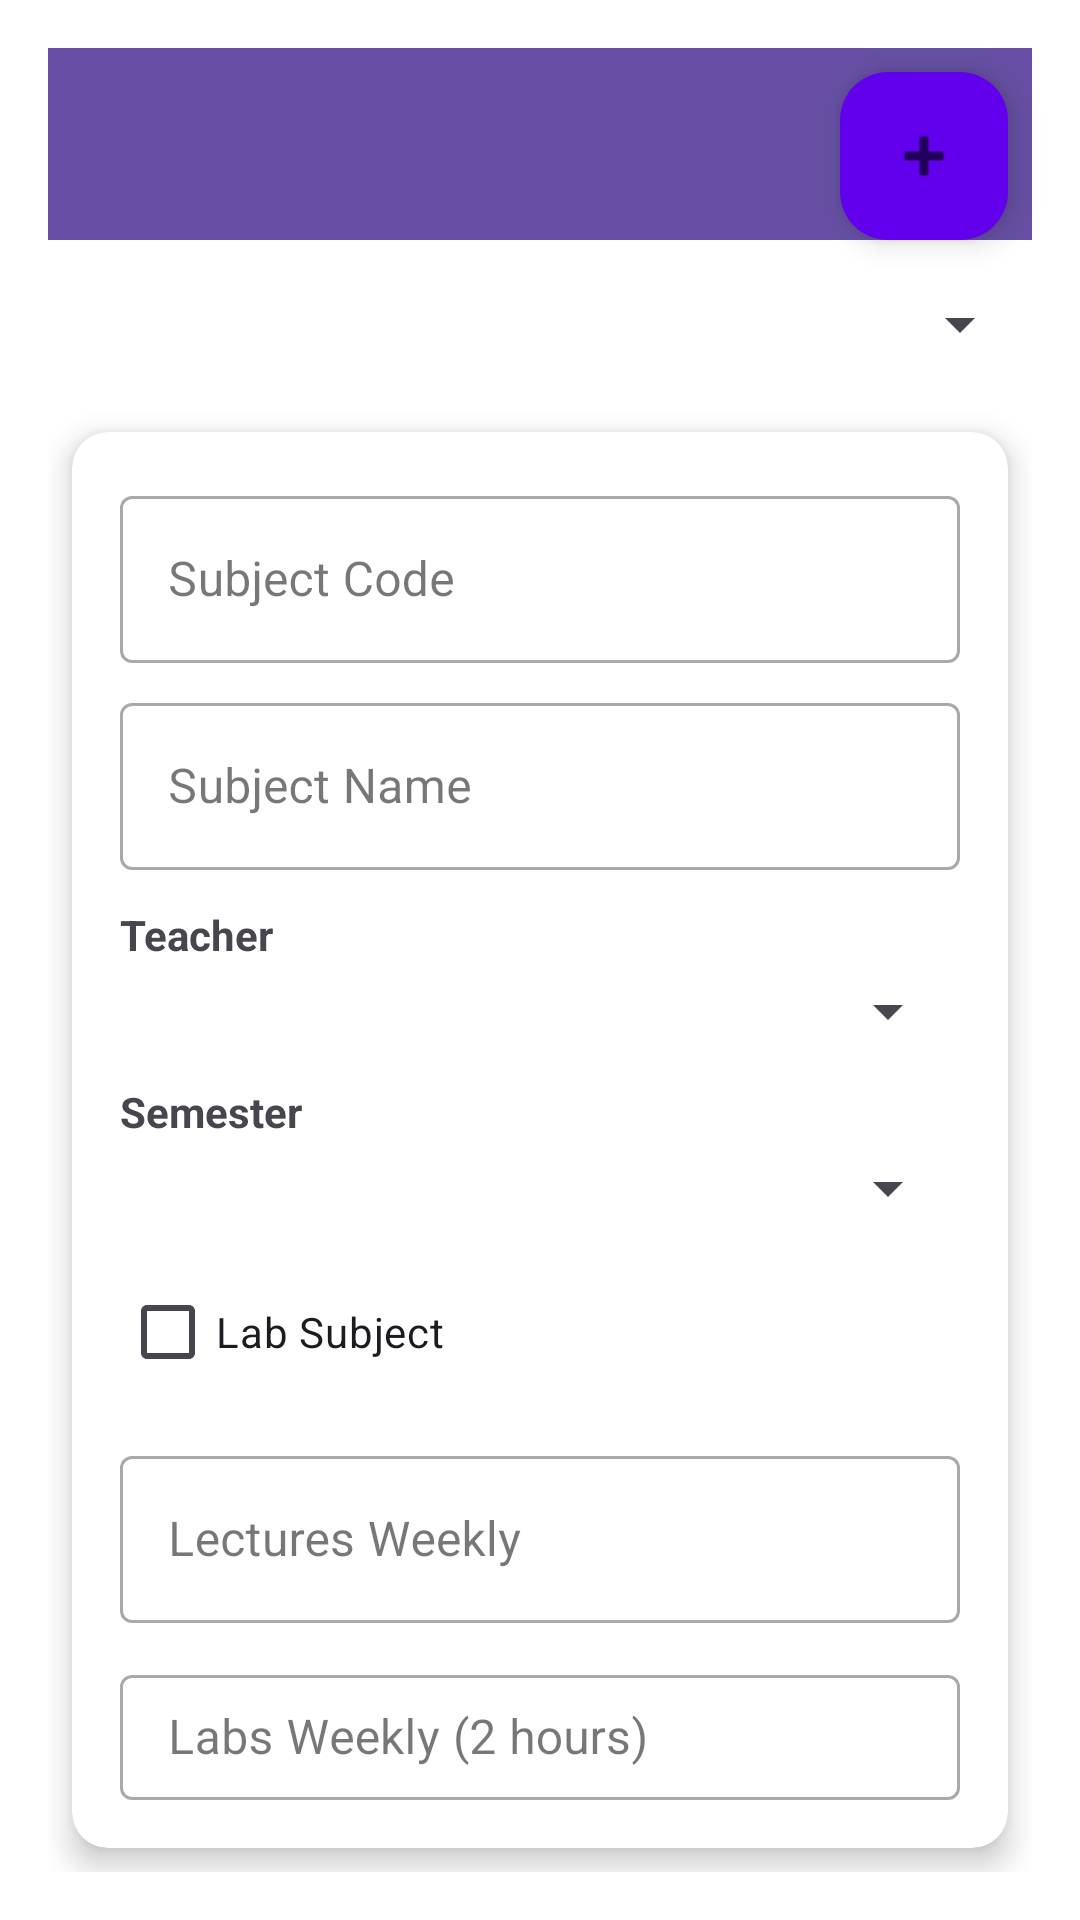

Screen size 1080px x 1920px. Icon name, then its center in pixels as (x=x, y=y):
add: (x=924, y=156)
